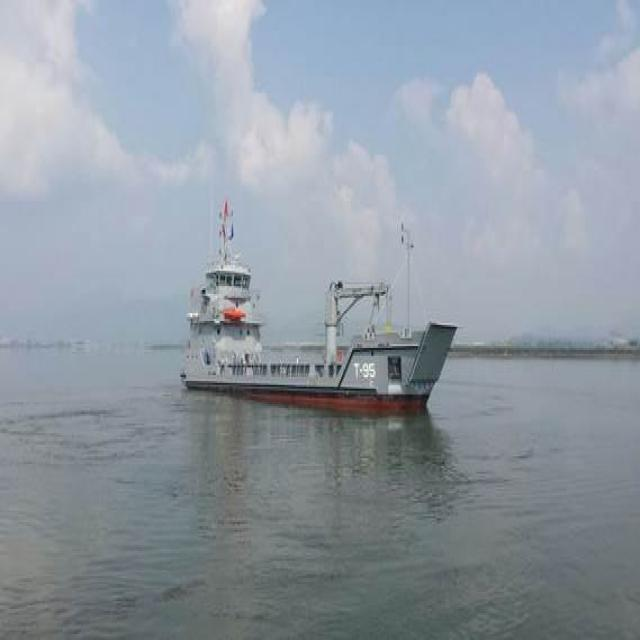passenger ship: (181, 221, 450, 398)
